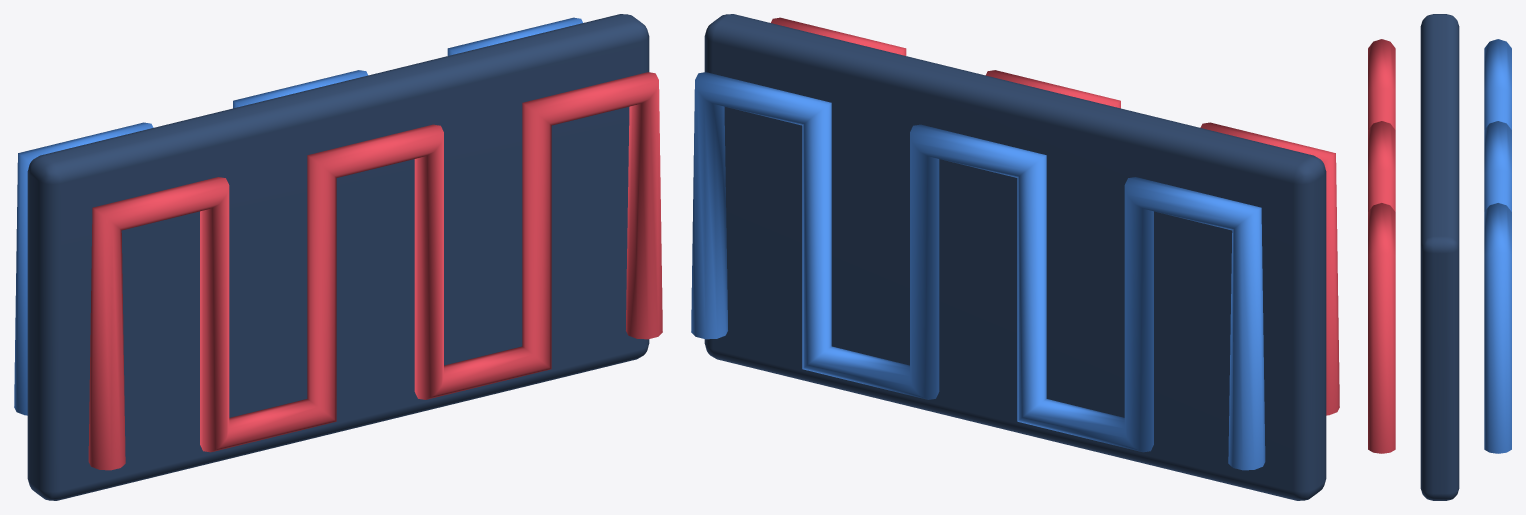
File: heat-exchanger-quality.glb
3 renders of one model, left to right at view 1: azimuth 30°, elevation 25°; view 2: azimuth 150°, elevation 25°; view 3: azimuth 270°, elevation 25°, orthographic. The views are drawn at different scales.
Parts seen in each view (by area): view 1: Frame; view 2: Frame; view 3: Frame.
Boxes of the visible parts, bbox=[...] form: Frame: bbox=[14, 14, 662, 500]; Frame: bbox=[691, 14, 1339, 500]; Frame: bbox=[1368, 14, 1511, 500].
Bounding box in the file's own units: 1.7 × 0.9 × 0.4456.
